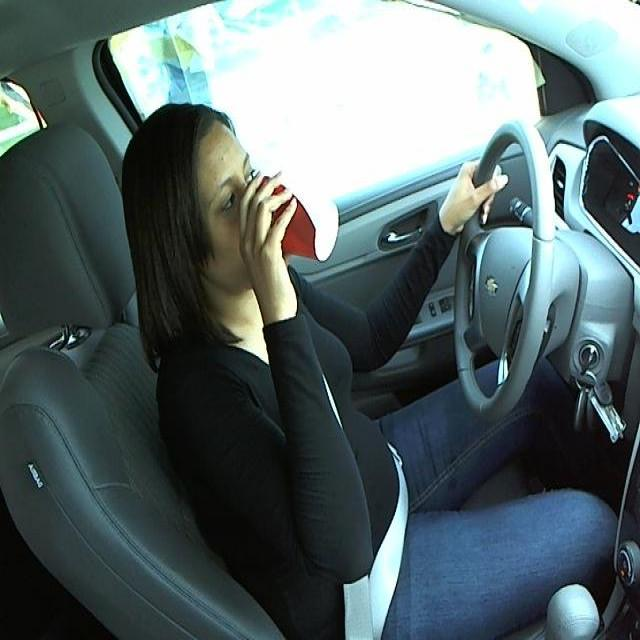drinking: (235, 164, 344, 265)
